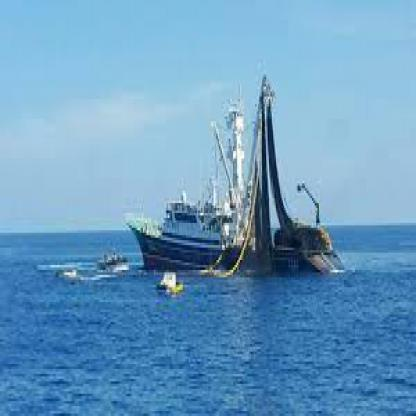fish-b: (114, 72, 280, 294)
